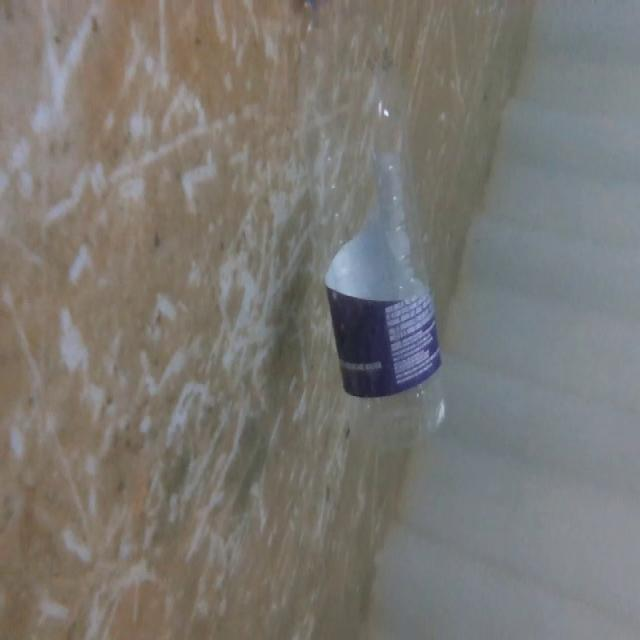plastic bottle: (286, 0, 460, 455)
